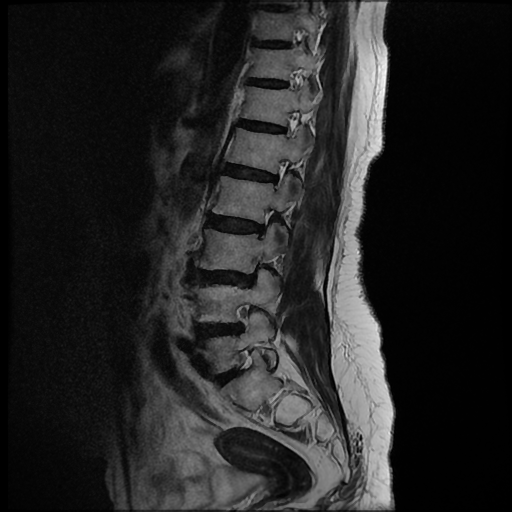LFS1: (227, 294, 260, 342)
